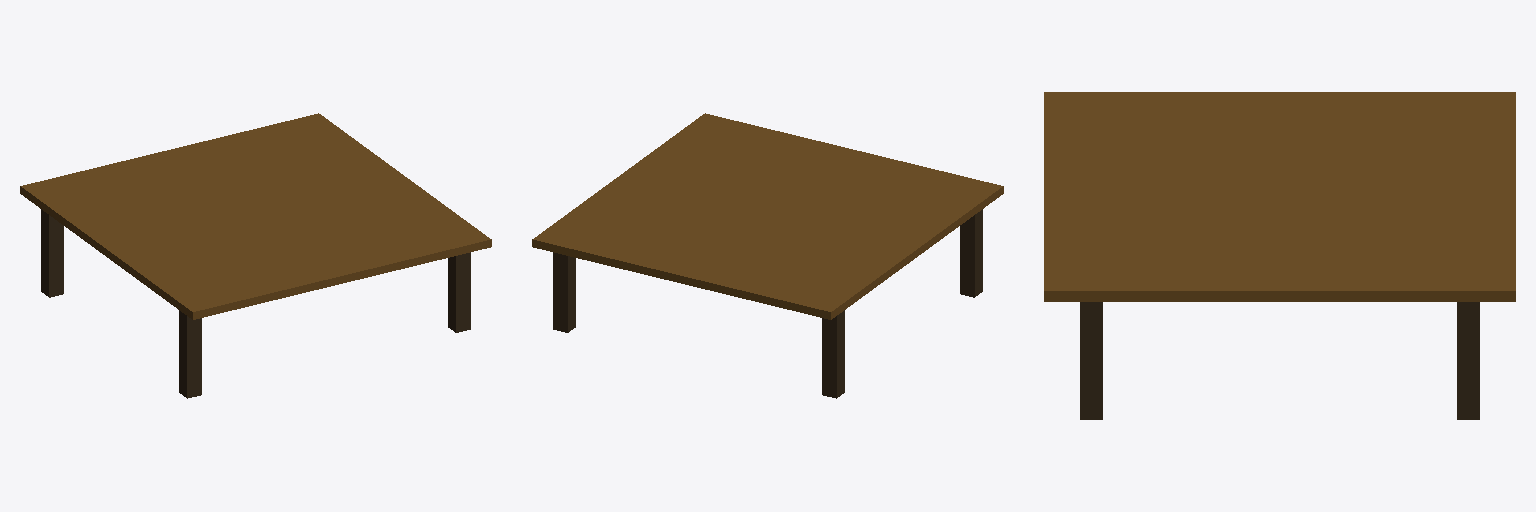
robot.urdf — table.urdf:
<?xml version="0.0" ?>
<robot name="table.urdf">
  <link name="baseLink">
    <contact>
      <lateral_friction value="1.0"/>
    </contact>
    <inertial>
      <origin rpy="0 0 0" xyz="0 0 0"/>
       <mass value=".0"/>
       <inertia ixx="1" ixy="0" ixz="0" iyy="1" iyz="0" izz="1"/>
    </inertial>
    <visual>
      <origin rpy="0 0 0" xyz="0 0 0.6"/>
      <geometry>
        <mesh filename="table_custom/table.obj" scale="2.0 2.0 0.05"/>
      </geometry>
       <material name="brown">
        <color rgba="0.466 0.341 0.172 1.0"/>
      </material>
    </visual>
    <collision>
      <origin rpy="0 0 0" xyz="0 0 0.6"/>
      <geometry>
	 	<box size="2.0 2.0 0.05"/>
      </geometry>
    </collision>
	<visual>
      <origin rpy="0 0 0" xyz="-0.9 -0.8 0.29"/>
      <geometry>
	    <mesh filename="table_custom/table.obj" scale="0.1 0.1 0.58"/>
      </geometry>
	  <material name="brown2">
        <color rgba="0.270 0.219 0.152 1.0"/>
      </material>
    </visual>
    <visual>
      <origin rpy="0 0 0" xyz="-0.9 0.8 0.29"/>
      <geometry>
        <mesh filename="table_custom/table.obj" scale="0.1 0.1 0.58"/>
      </geometry>
	  <material name="brown2">
        <color rgba="0.270 0.219 0.152 1.0"/>
      </material>
	  </visual>
    <visual>
      <origin rpy="0 0 0" xyz="0.9 -0.8 0.29"/>
      <geometry>
        <mesh filename="table_custom/table.obj" scale="0.1 0.1 0.58"/>
      </geometry>
	  <material name="brown2">
        <color rgba="0.270 0.219 0.152 1.0"/>
      </material>
	  </visual>
    <visual>
      <origin rpy="0 0 0" xyz="0.9 0.8 0.29"/>
      <geometry>
        <mesh filename="table_custom/table.obj" scale="0.1 0.1 0.58"/>
      </geometry>
      <material name="brown2">
        <color rgba="0.270 0.219 0.152 1.0"/>
      </material>
    </visual>
  </link>
</robot>

--- Render facts (derived) ---
Views: 3 orthographic renders of the robot side by side, from view 1: azimuth 30°, elevation 25°; view 2: azimuth 150°, elevation 25°; view 3: azimuth 270°, elevation 25°.
Model table.urdf with 1 links and 0 joints (none), rooted at baseLink, posed all joints at 0.
Links seen in each view (by area): view 1: baseLink; view 2: baseLink; view 3: baseLink.
Link boxes in pixels (bbox=[...]): baseLink: bbox=[20, 113, 491, 398]; baseLink: bbox=[532, 113, 1003, 398]; baseLink: bbox=[1044, 92, 1515, 419].
Bounding box of the posed robot: 2 × 2 × 0.625 m (x, y, z).
5 mesh visuals loaded from 1 distinct referenced files (1 OBJ).